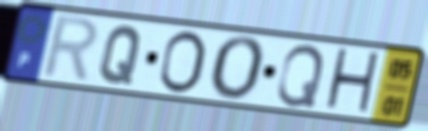H: (321, 45, 383, 119)
O: (208, 34, 270, 104), (155, 28, 209, 96)
Q: (274, 43, 327, 110), (97, 23, 145, 87)
R: (37, 13, 102, 86)
